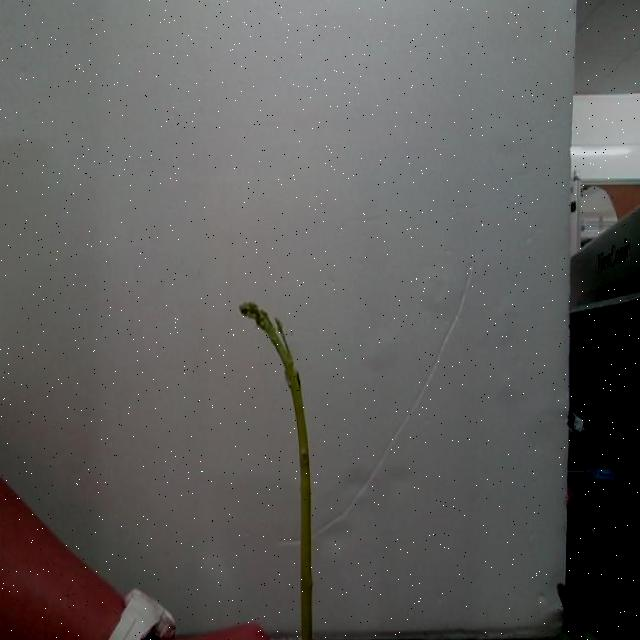aspargus: (238, 303, 313, 640)
